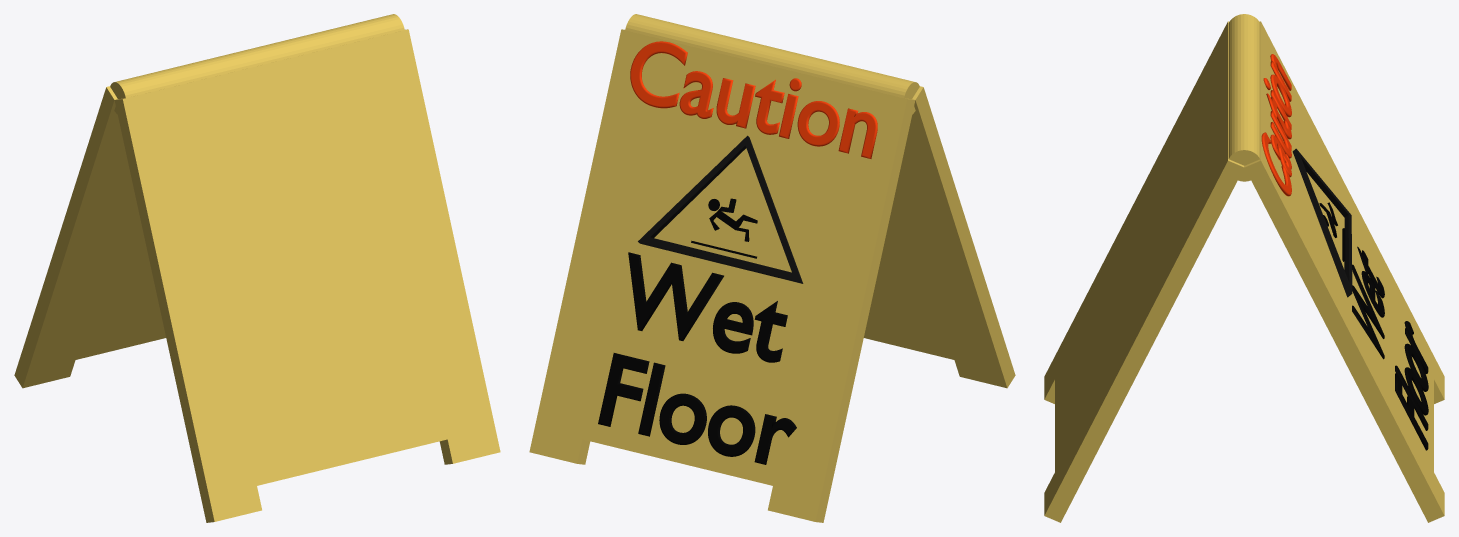
File: ObstacleSign.fbx
3 renders of one model, left to right at view 1: azimuth 30°, elevation 25°; view 2: azimuth 150°, elevation 25°; view 3: azimuth 270°, elevation 25°, orthographic.
Parts seen in each view (by area): view 1: Cube.001, Cube, Cylinder; view 2: Cube, Cube.001, Text, Text.001, Cylinder, Plane, Plane.001; view 3: Cube.001, Cube, Cylinder, Text, Text.001, Plane.
Boxes of the visible parts, box(x1,y1,x2,y2) form: Cube.001: box(114, 29, 500, 522); Cube: box(14, 86, 165, 388); Cylinder: box(110, 14, 404, 114); Cube: box(529, 29, 915, 522); Cube.001: box(864, 86, 1015, 388); Text: box(598, 252, 796, 464); Text.001: box(630, 41, 877, 158); Cylinder: box(625, 14, 919, 114); Plane: box(638, 135, 803, 283); Plane.001: box(691, 198, 757, 258); Cube.001: box(1044, 21, 1244, 522); Cube: box(1244, 21, 1444, 522); Cylinder: box(1228, 14, 1260, 181); Text: box(1352, 246, 1428, 450); Text.001: box(1261, 54, 1291, 196); Plane: box(1292, 148, 1352, 297).
Bounding box in the file's own units: 129 × 161 × 157.
